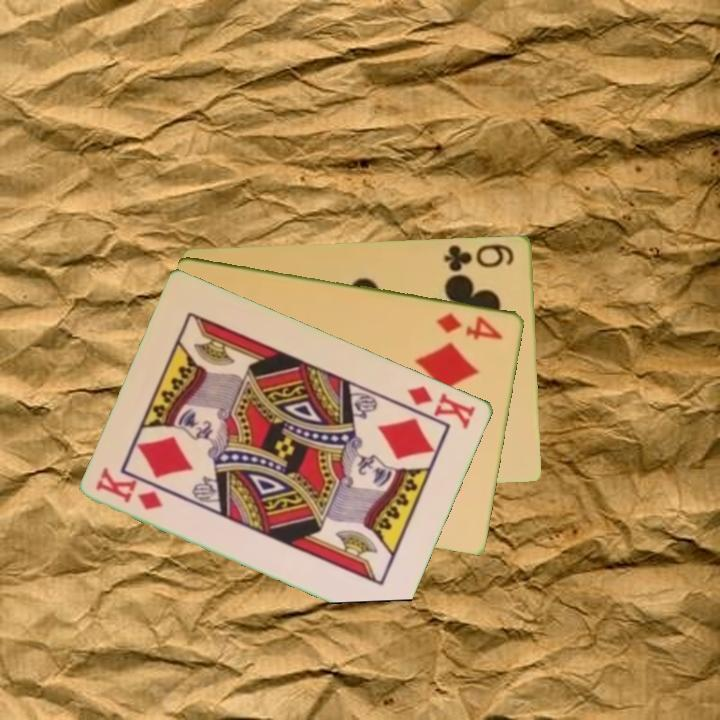4d: (433, 309, 507, 342)
6c: (441, 240, 517, 274)
Kd: (404, 382, 479, 432), (92, 464, 167, 513)
